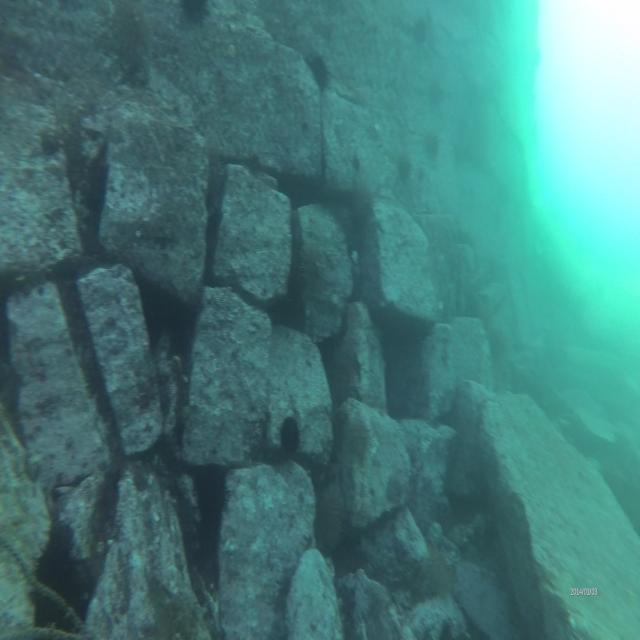echinus: (279, 414, 304, 462), (309, 52, 330, 92)
